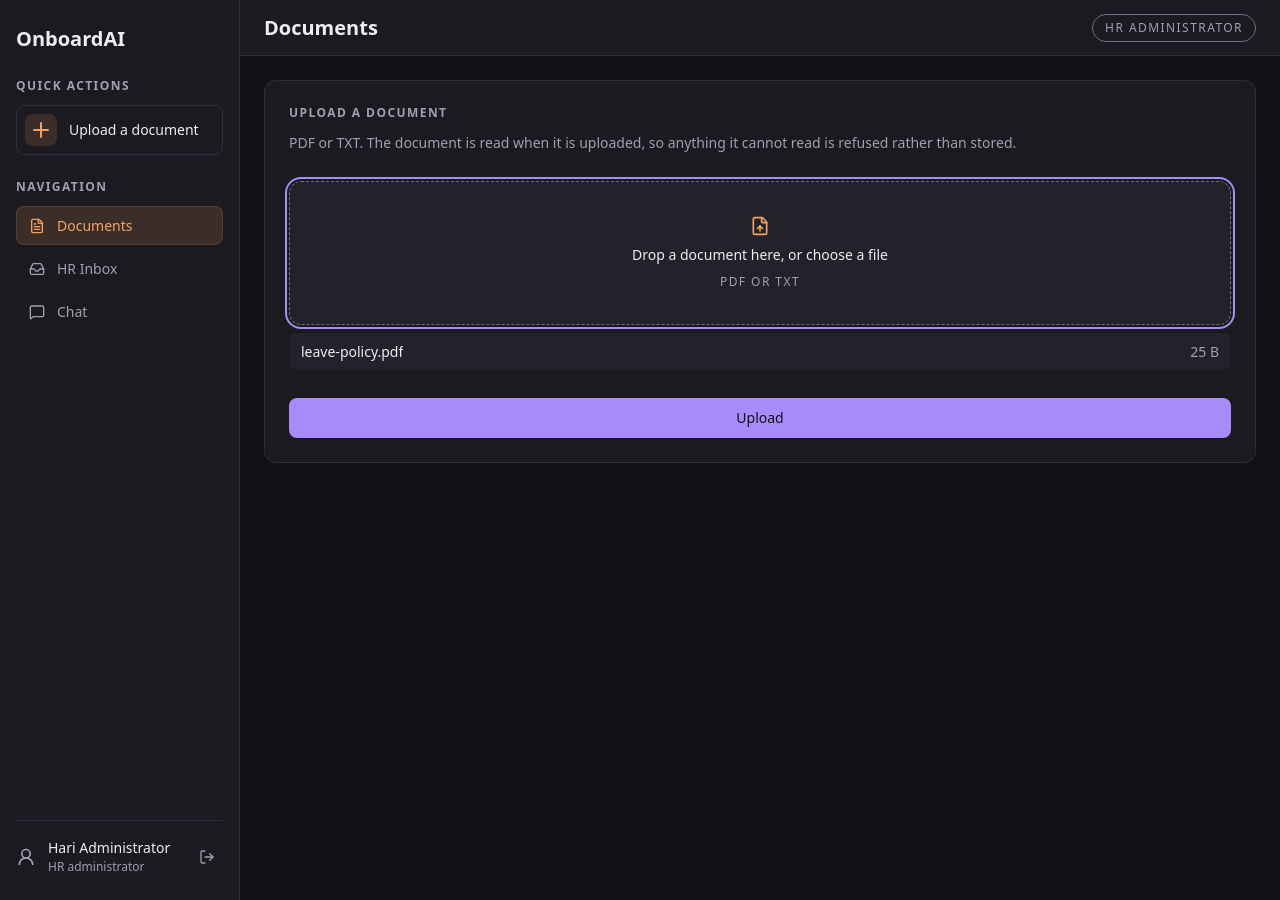
Test case: once the bytes are up but the server is still reading › says it is being read, not that it is still uploading
Earlier steps of the test are not shown.
Click the button "Upload".
click(760, 418)  # box [289,398,1231,438]
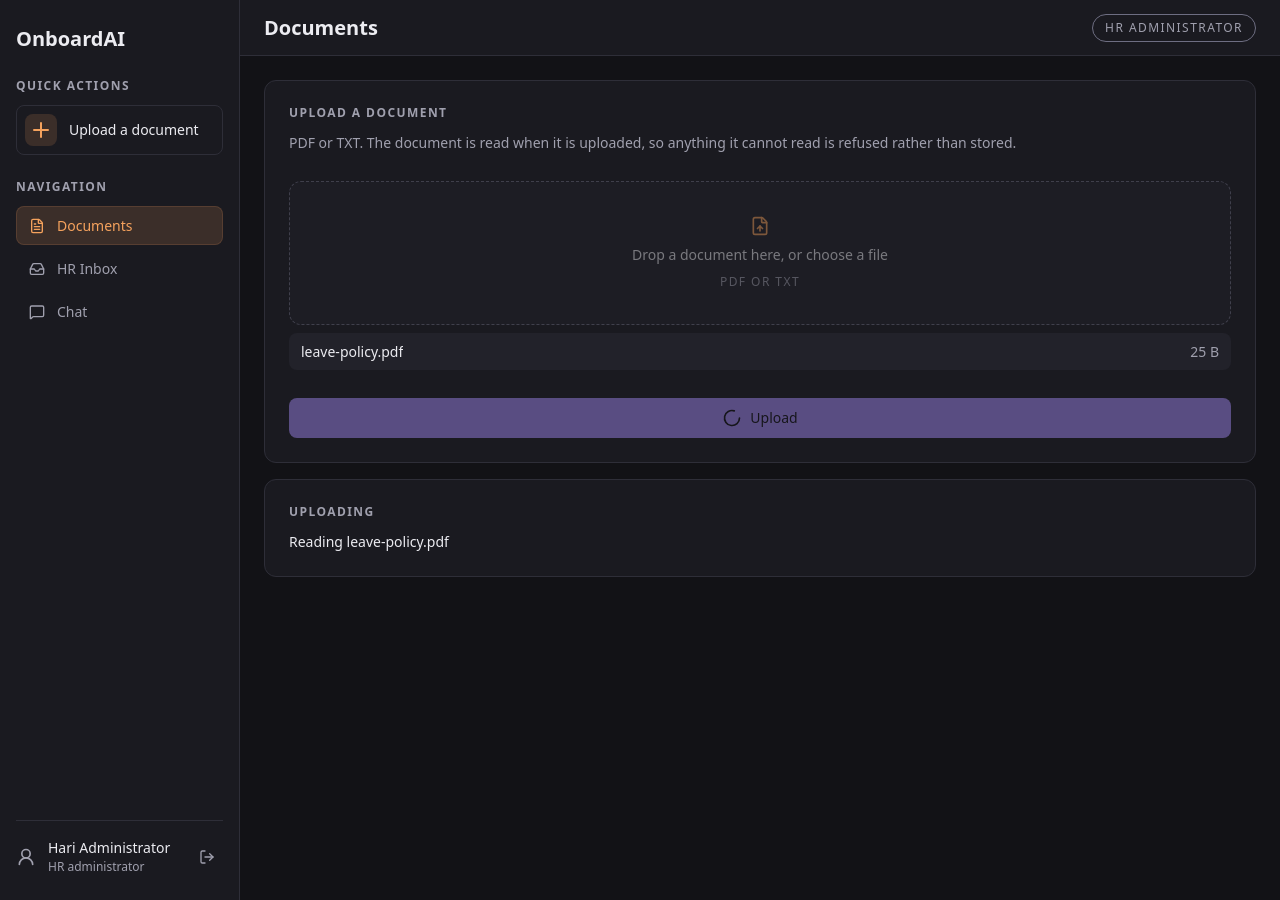
Expected: the text "Reading leave-policy.pdf" is shown, [289,531,449,552]
